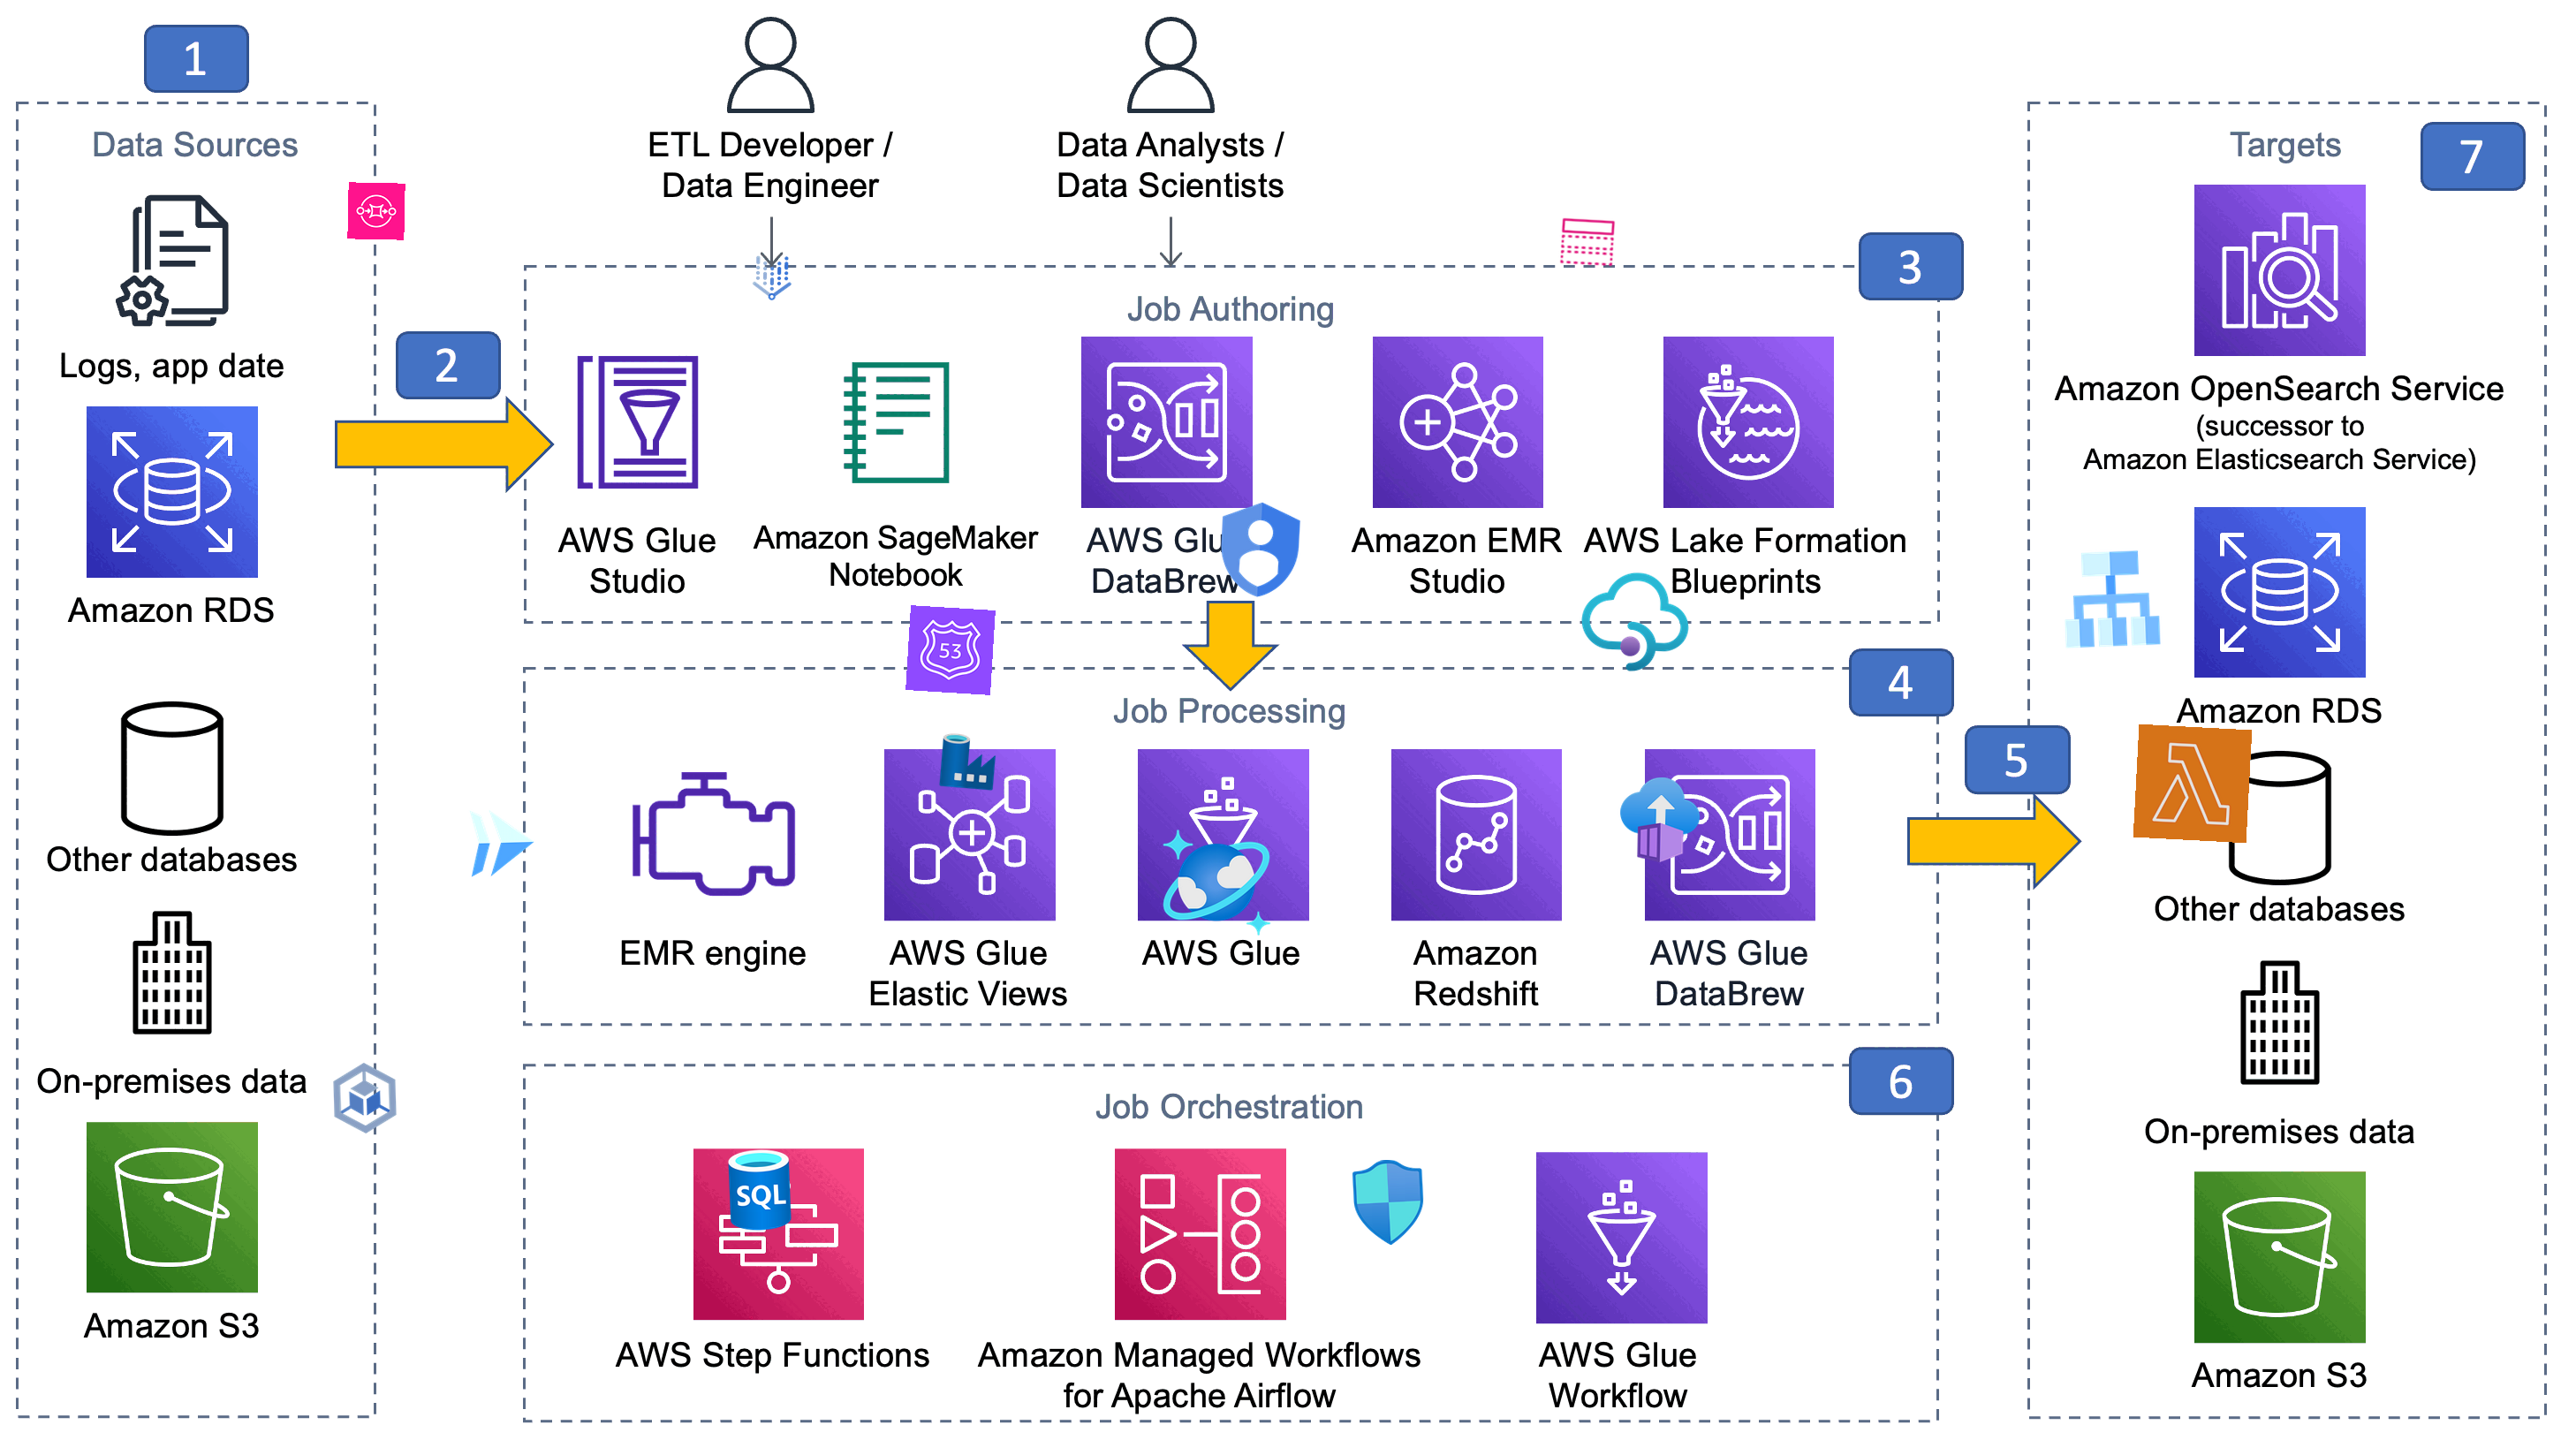aws_amazon_route_53: (906, 605, 996, 695)
aws_amazon_simple_queue_service: (347, 182, 405, 241)
aws_lambda: (2132, 724, 2252, 844)
aws_simple_notification_service_topic: (1557, 212, 1617, 272)
azure_api_management_services: (1576, 563, 1695, 681)
azure_container_instances: (1615, 775, 1704, 863)
azure_cosmos_db: (1159, 824, 1274, 939)
azure_data_factories: (938, 731, 1000, 793)
azure_network_security_groups: (1343, 1157, 1433, 1247)
azure_sql_database: (715, 1146, 803, 1235)
gcp_cloud_load_balancing: (2052, 540, 2171, 658)
gcp_cloud_run: (456, 798, 545, 886)
gcp_google_kubernetes_engine: (320, 1054, 409, 1143)
gcp_identity_and_access_management: (1200, 490, 1320, 610)
gcp_vertex_ai: (743, 249, 801, 308)
